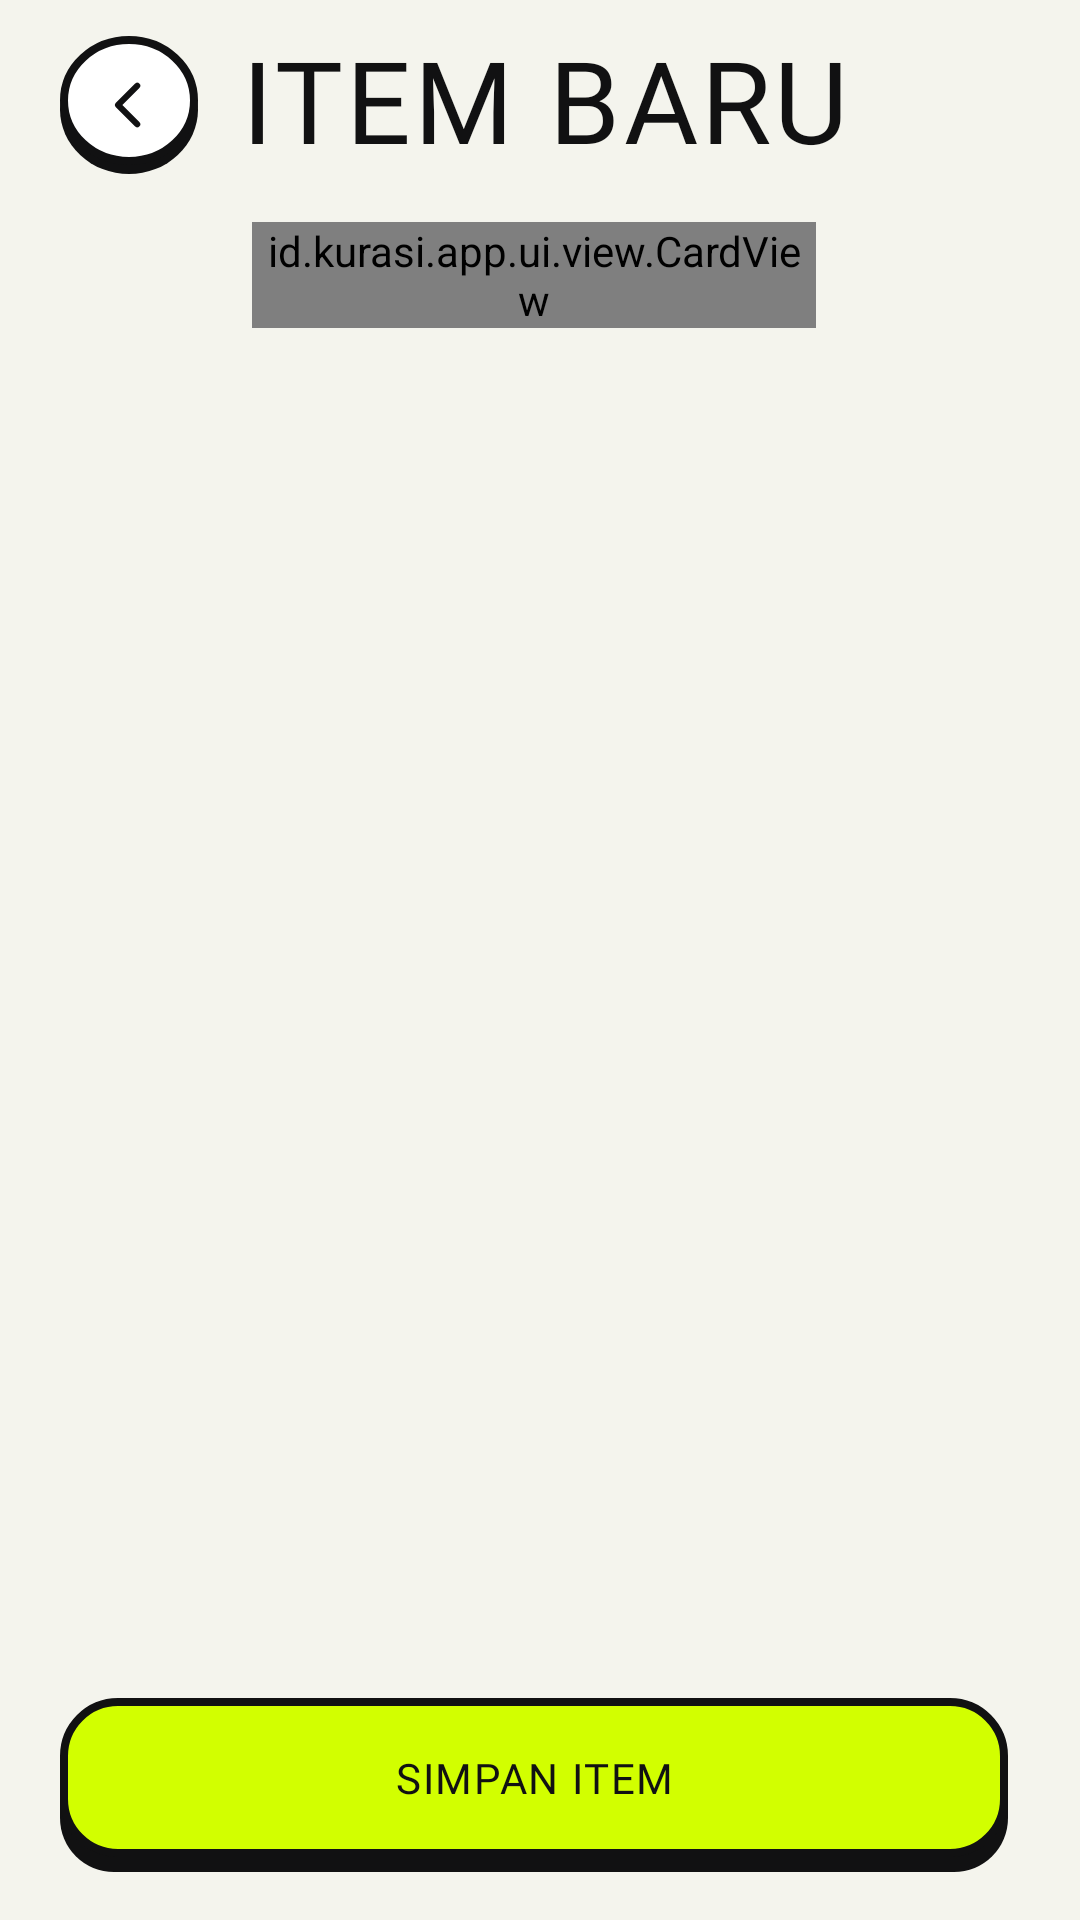

Screen size 1080px×1920px. Icon name, then its center in pixels as (x,y):
Kembali: (129,105)
